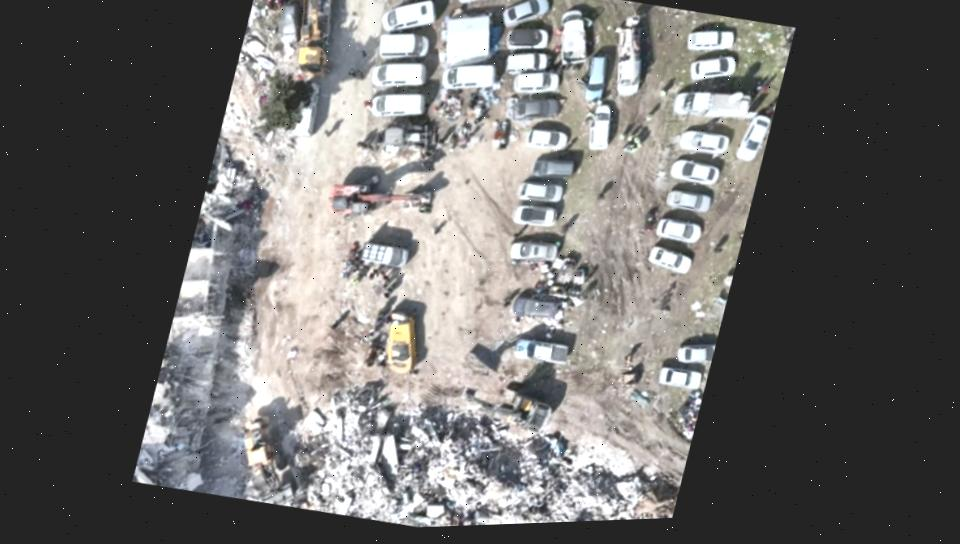kapali: (210, 339, 331, 508)
